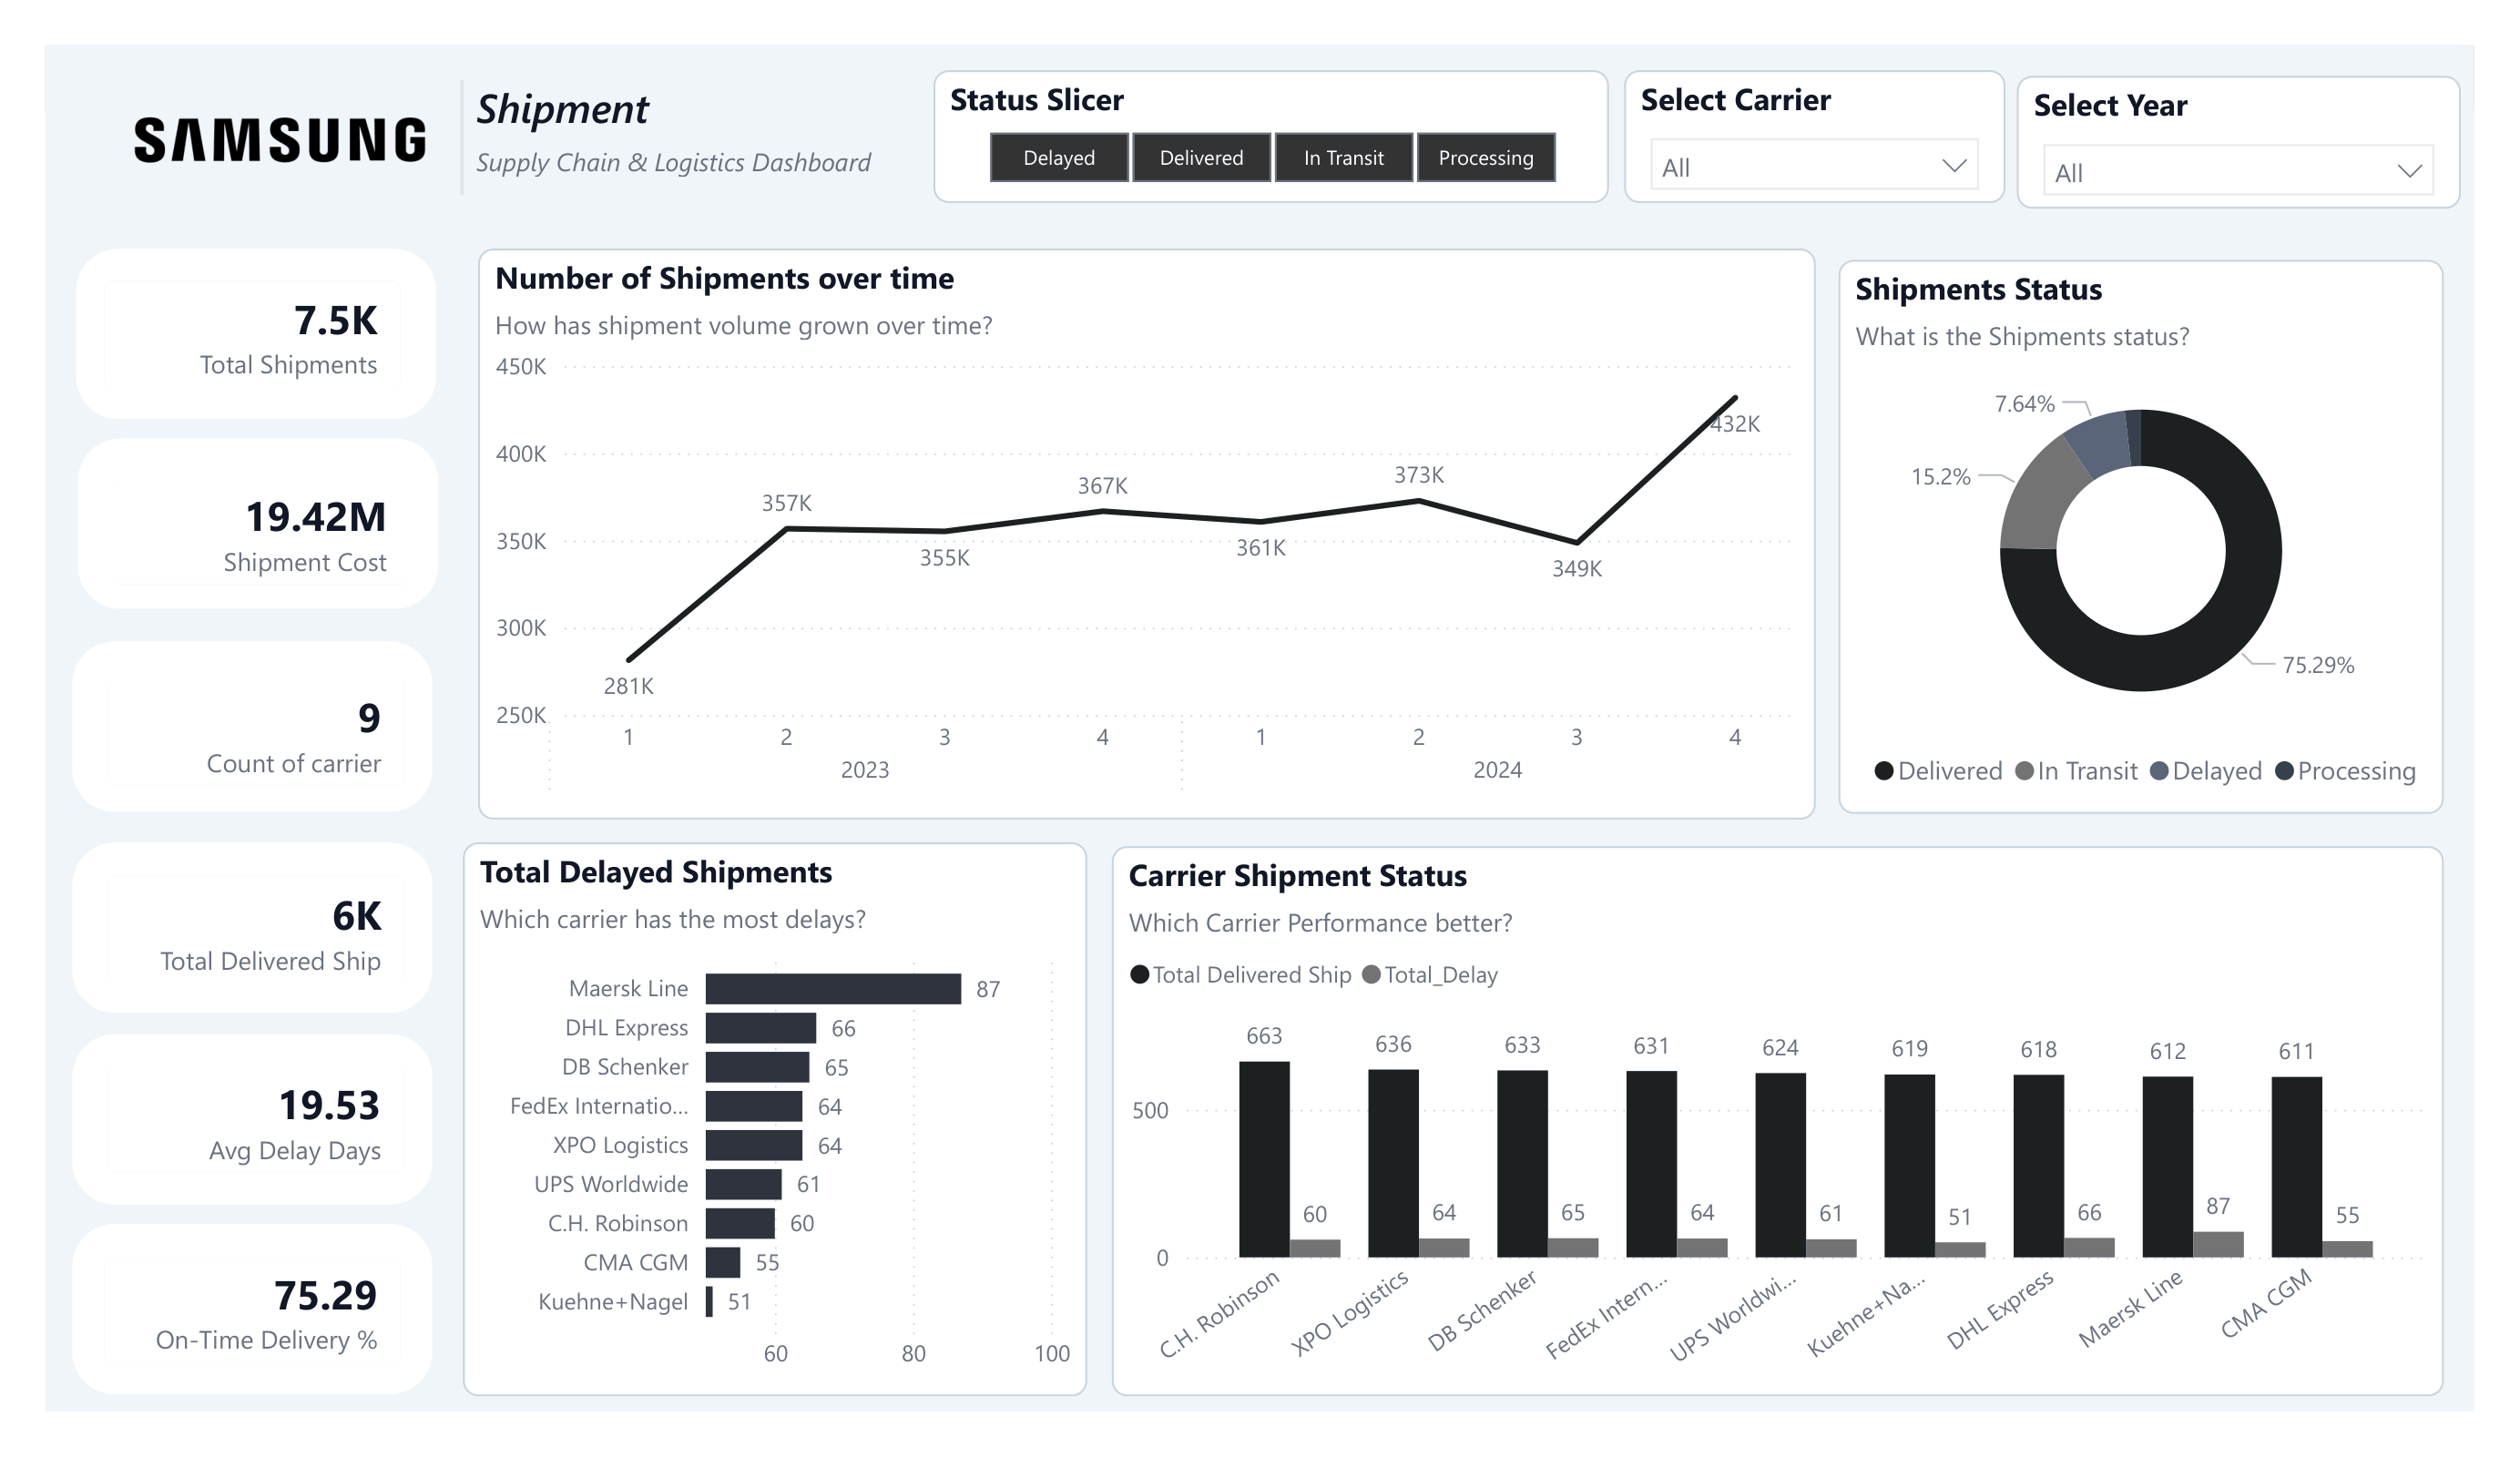

Layout of this report page (visuals, bound fields, positions):
{"tool":"powerbi","page":{"name":"Shipment","canvas":[1280,720],"ordinal":4},"visuals":[{"type":"shape","box":[14.3,621.4,190,90],"z":0},{"type":"shape","box":[14.3,521.4,190,90],"z":1000},{"type":"shape","box":[14.3,420,190,90],"z":2000},{"type":"shape","box":[14.3,314.3,190,90],"z":3000},{"type":"shape","box":[17.1,207.1,190,90],"z":4000},{"type":"shape","box":[15.7,107.1,190,90],"z":5000},{"type":"shape","title":"Shipment","box":[227.4,18.3,221.3,61.1],"z":6000},{"type":"shape","box":[166.3,18.3,106.4,61.1],"z":7000},{"type":"image","box":[35.5,13.5,170,72.1],"z":8000},{"type":"cardVisual","fields":{"Data":["MeasuresTable.Shipment Cost"]},"box":[18.6,211.4,190,90],"z":9000},{"type":"cardVisual","fields":{"Data":["Count(fact_shipment.carrier)"]},"box":[15.7,317.1,190,90],"z":10000},{"type":"cardVisual","fields":{"Data":["MeasuresTable.Avg Delay Days1"]},"box":[15.7,521.4,190,90],"z":11000},{"type":"cardVisual","fields":{"Data":["MeasuresTable.Total Delivered Ship"]},"box":[15.7,421.4,190,90],"z":12000},{"type":"cardVisual","fields":{"Data":["MeasuresTable.On-Time Delivery %"]},"box":[14.3,621.4,190,90],"z":13000},{"type":"barChart","title":"Total  Delayed Shipments","fields":{"Y":["MeasuresTable.Total_Delay"],"Category":["fact_shipment.carrier"]},"box":[219.6,419.8,329.4,292],"z":14000},{"type":"cardVisual","fields":{"Data":["Count(fact_shipment.shipment_id)"]},"box":[14.3,107.1,190,90],"z":15000},{"type":"clusteredColumnChart","title":"Carrier Shipment Status","fields":{"Y":["MeasuresTable.Total Delivered Ship","MeasuresTable.Total_Delay"],"Category":["fact_shipment.carrier"]},"box":[562.2,422.3,702.1,289.5],"z":16000},{"type":"lineChart","title":"Number of Shipments over time","fields":{"Y":["Sum(fact_shipment.quantity)"],"Category":["dim_date.year","dim_date.quarter"]},"box":[228,107.4,704.6,300.4],"z":17000},{"type":"donutChart","title":"Shipments Status","fields":{"Y":["MeasuresTable.Total_Shipment"],"Category":["fact_shipment.status"]},"box":[944.6,113.4,319.7,292],"z":18000},{"type":"slicer","title":"Select Year","fields":{"Values":["dim_date.date.Variation.Date Hierarchy.Year","dim_date.date.Variation.Date Hierarchy.Quarter","dim_date.date.Variation.Date Hierarchy.Month","dim_date.date.Variation.Date Hierarchy.Day"]},"box":[1038.7,15.7,234,70],"z":19000},{"type":"slicer","title":"Select Carrier","fields":{"Values":["fact_shipment.carrier"]},"box":[832.4,13.3,200.3,70],"z":20000},{"type":"slicer","title":"Status Slicer","fields":{"Values":["fact_shipment.status"]},"box":[468.1,13.3,355.9,70],"z":21000}]}

Visuals, with their boxes on the page's 1280x720 design canvas (x1, y1, x2, y2). These are canvas units, not pixel positions in the 2520x1457 screenshot, which may show the page scaled, cropped or inside an application window:
shape: pyautogui.locateOnScreen(14, 621, 204, 711)
shape: pyautogui.locateOnScreen(14, 521, 204, 611)
shape: pyautogui.locateOnScreen(14, 420, 204, 510)
shape: pyautogui.locateOnScreen(14, 314, 204, 404)
shape: pyautogui.locateOnScreen(17, 207, 207, 297)
shape: pyautogui.locateOnScreen(16, 107, 206, 197)
"Shipment" shape: pyautogui.locateOnScreen(227, 18, 449, 79)
shape: pyautogui.locateOnScreen(166, 18, 273, 79)
image: pyautogui.locateOnScreen(36, 14, 206, 86)
cardVisual - MeasuresTable.Shipment Cost: pyautogui.locateOnScreen(19, 211, 209, 301)
cardVisual - Count(fact_shipment.carrier): pyautogui.locateOnScreen(16, 317, 206, 407)
cardVisual - MeasuresTable.Avg Delay Days1: pyautogui.locateOnScreen(16, 521, 206, 611)
cardVisual - MeasuresTable.Total Delivered Ship: pyautogui.locateOnScreen(16, 421, 206, 511)
cardVisual - MeasuresTable.On-Time Delivery %: pyautogui.locateOnScreen(14, 621, 204, 711)
"Total  Delayed Shipments" barChart: pyautogui.locateOnScreen(220, 420, 549, 712)
cardVisual - Count(fact_shipment.shipment_id): pyautogui.locateOnScreen(14, 107, 204, 197)
"Carrier Shipment Status" clusteredColumnChart: pyautogui.locateOnScreen(562, 422, 1264, 712)
"Number of Shipments over time" lineChart: pyautogui.locateOnScreen(228, 107, 933, 408)
"Shipments Status" donutChart: pyautogui.locateOnScreen(945, 113, 1264, 405)
"Select Year" slicer: pyautogui.locateOnScreen(1039, 16, 1273, 86)
"Select Carrier" slicer: pyautogui.locateOnScreen(832, 13, 1033, 83)
"Status Slicer" slicer: pyautogui.locateOnScreen(468, 13, 824, 83)
